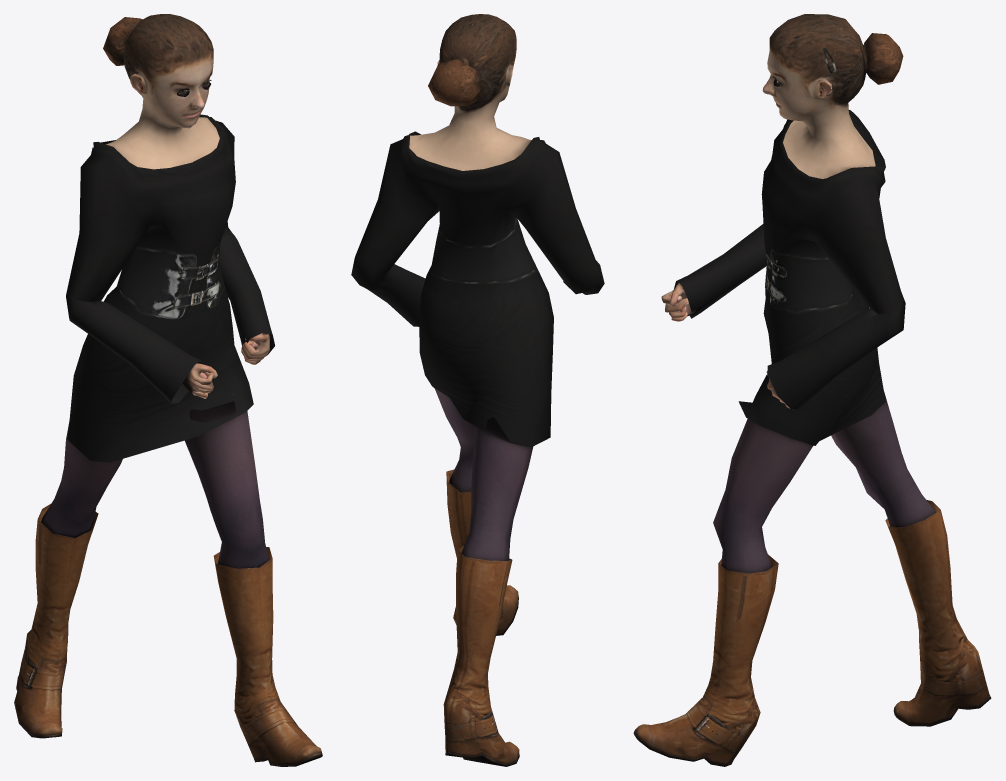
File: Ana_Model_000020.obj
3 renders of one model, left to right at view 1: azimuth 30°, elevation 25°; view 2: azimuth 150°, elevation 25°; view 3: azimuth 270°, elevation 25°, orthographic. The views are drawn at different scales.
Parts seen in each view (by area): view 1: Ana_Cube.004; view 2: Ana_Cube.004; view 3: Ana_Cube.004.
Part boxes in pixels (x1=…): Ana_Cube.004: x1=14, y1=14, x2=322, y2=766; Ana_Cube.004: x1=351, y1=14, x2=604, y2=766; Ana_Cube.004: x1=633, y1=14, x2=991, y2=766.
Size of the model in its own units: 0.5832 by 1.94 by 0.8501.
1 material, 1 textured.
